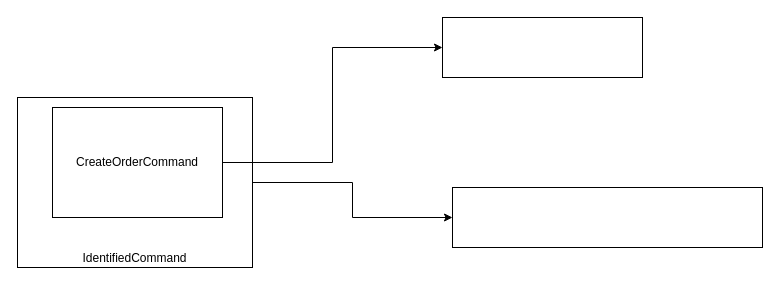
This 780x285 diagram has some shape labels left out. Here are the shapes that lost their labels. From the top down, the centre of each, then its label:
At point 542,47: "CreateOrderCommandHandler".
At point 607,217: "IdentifiedCommandHandler（abstract） CreateResultForDuplicateRequest(func)".
